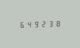eight: (53, 19, 59, 27)
four: (24, 20, 30, 28)
nine: (32, 20, 38, 28)
six: (17, 20, 23, 28)
three: (46, 19, 52, 27)
two: (39, 20, 45, 27)
